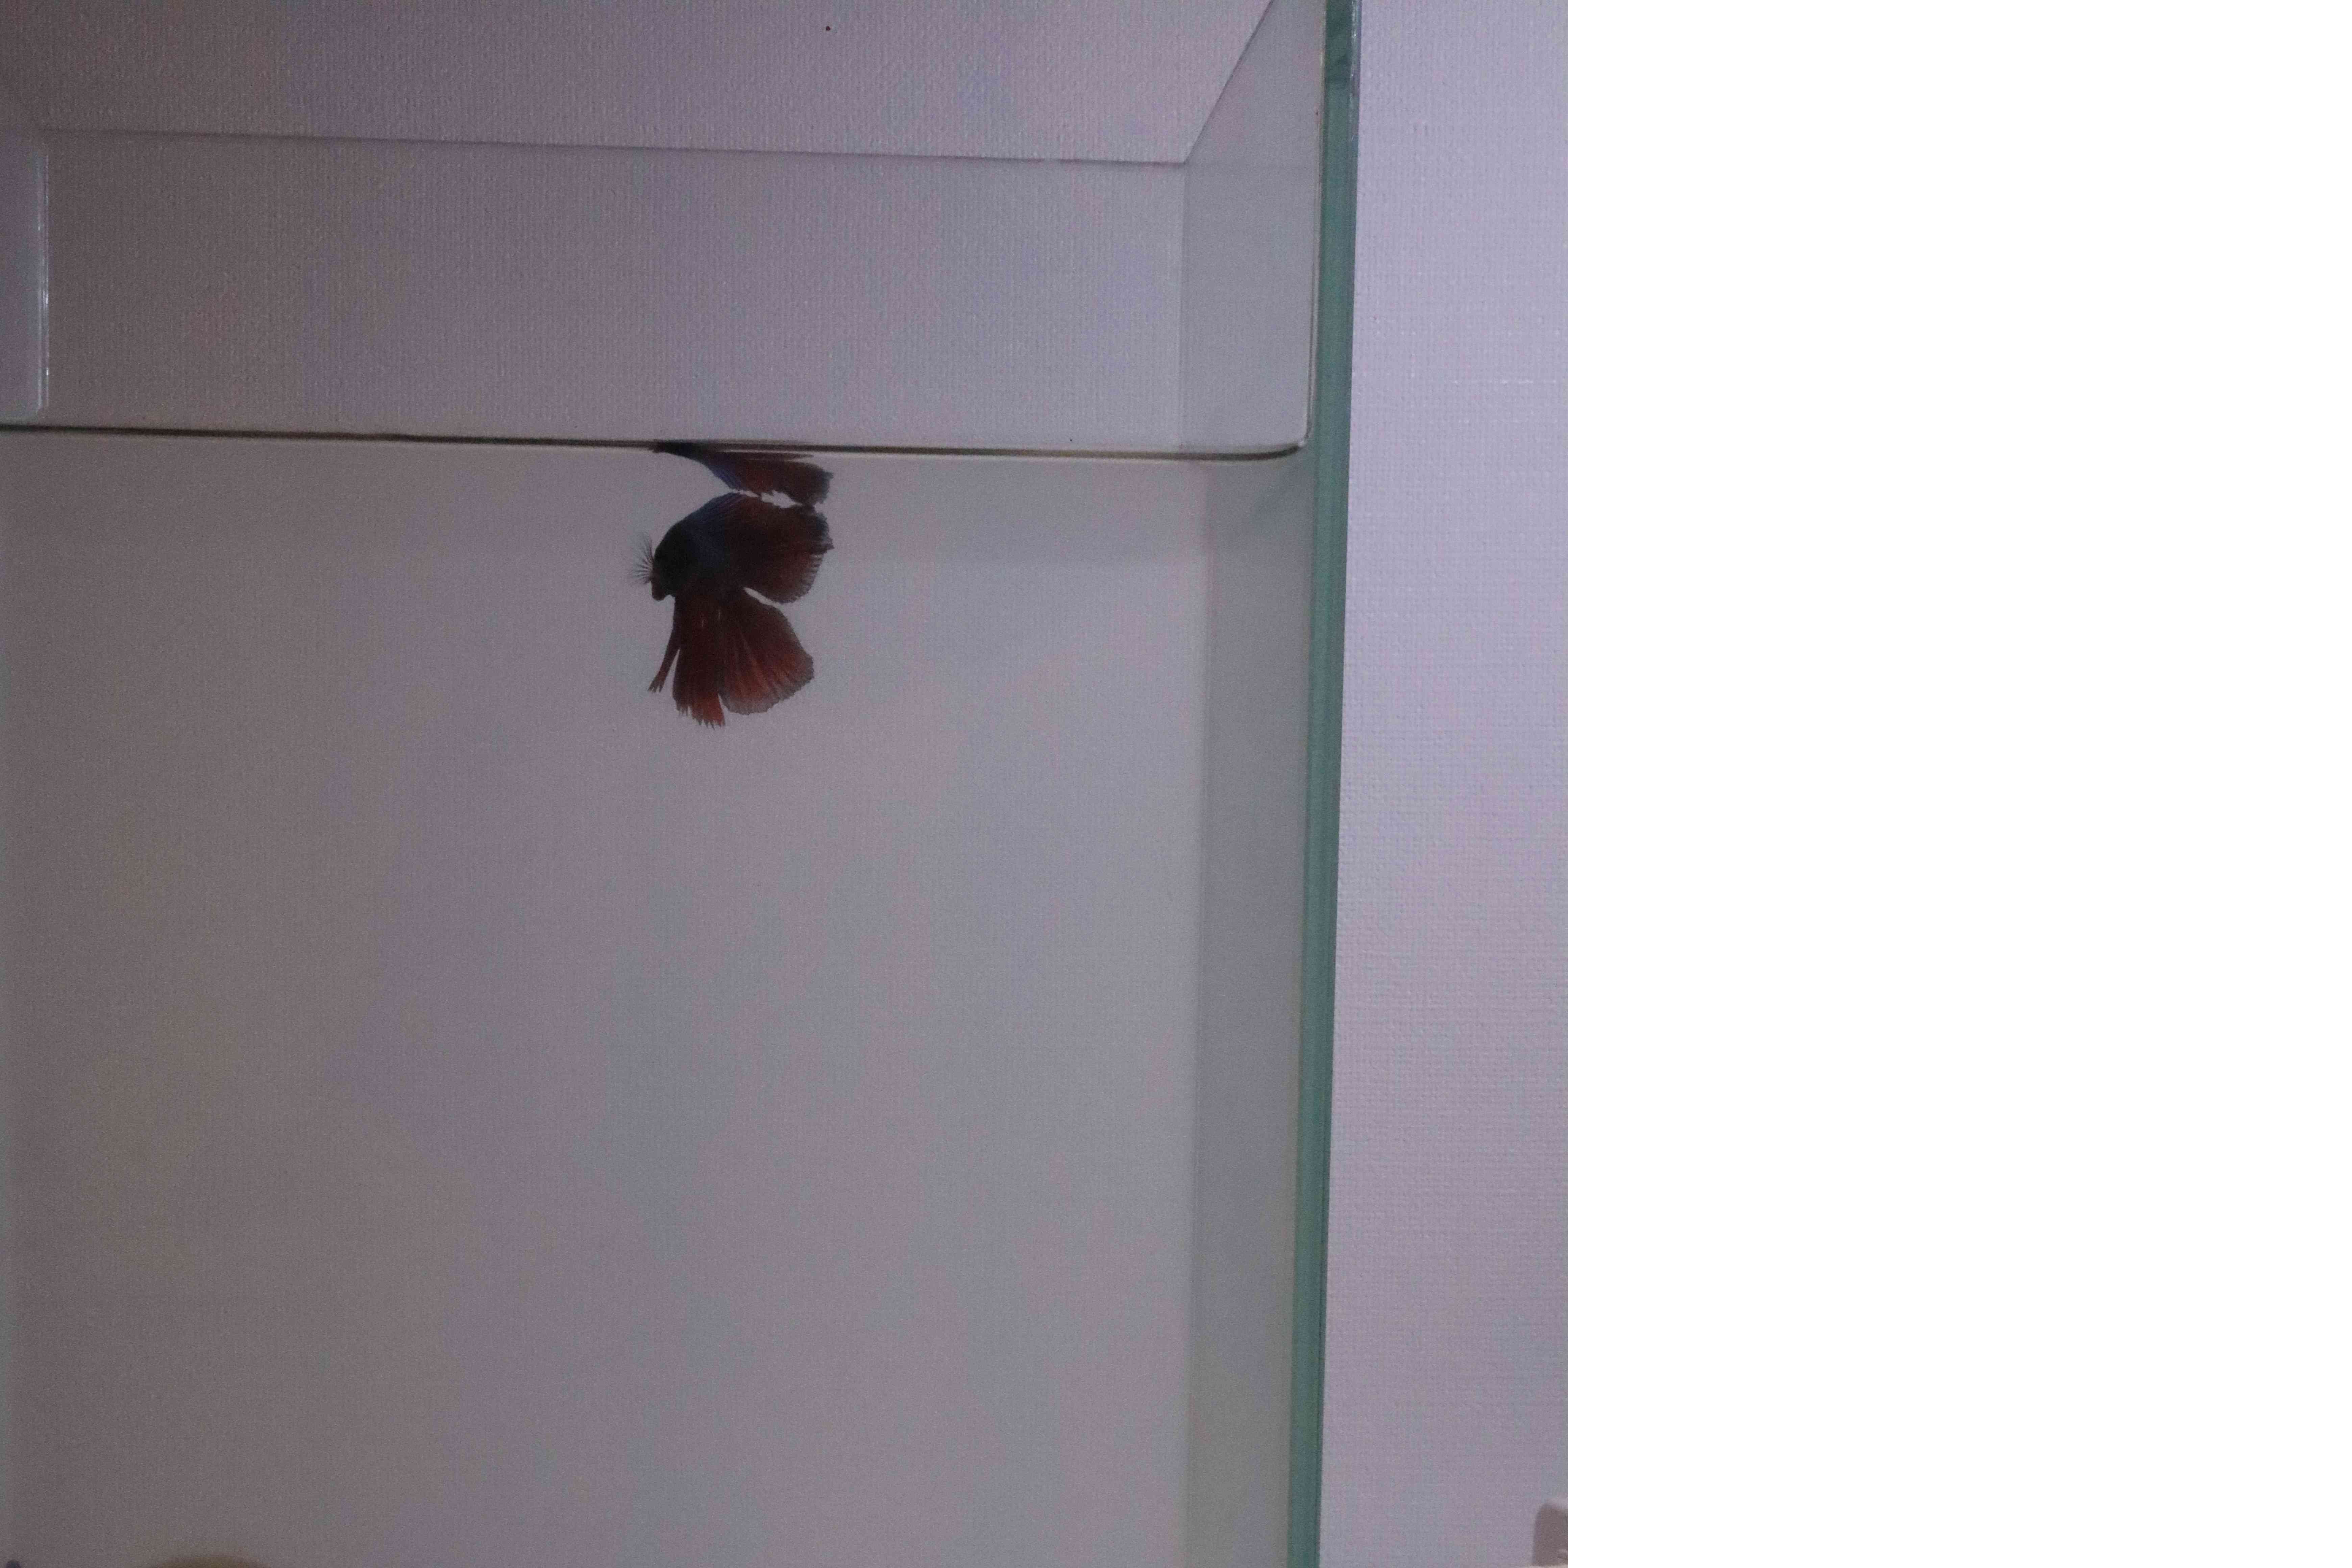fish: (616, 486, 861, 732)
